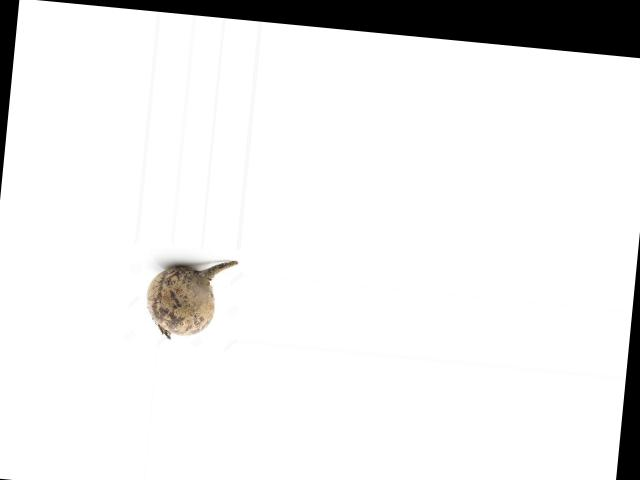beet: (142, 252, 237, 344)
